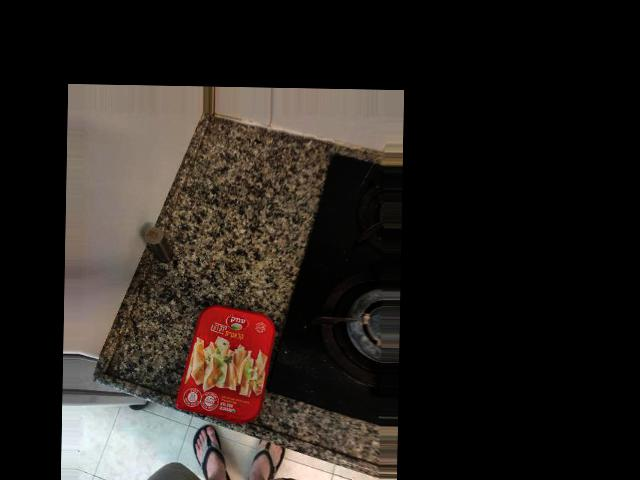cheese: (183, 220, 282, 328)
